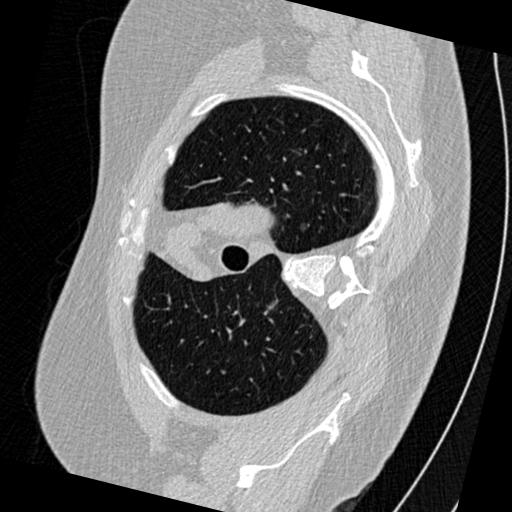nodule: (296, 222, 309, 235)
